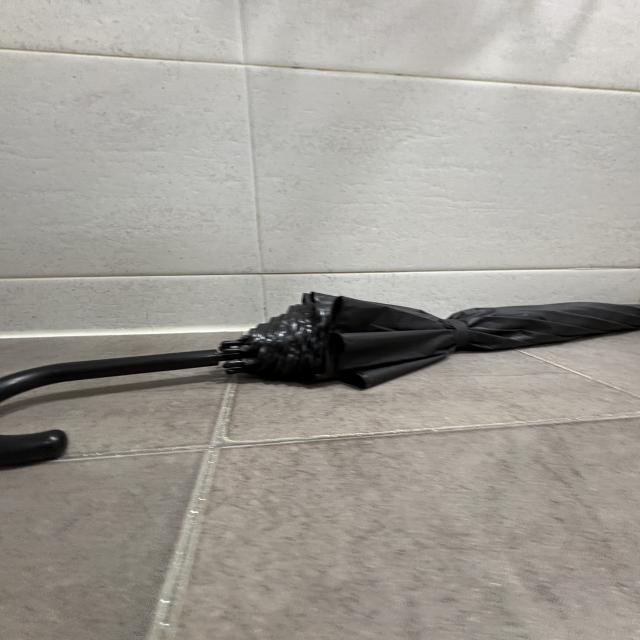umbrella: (0, 292, 640, 470)
